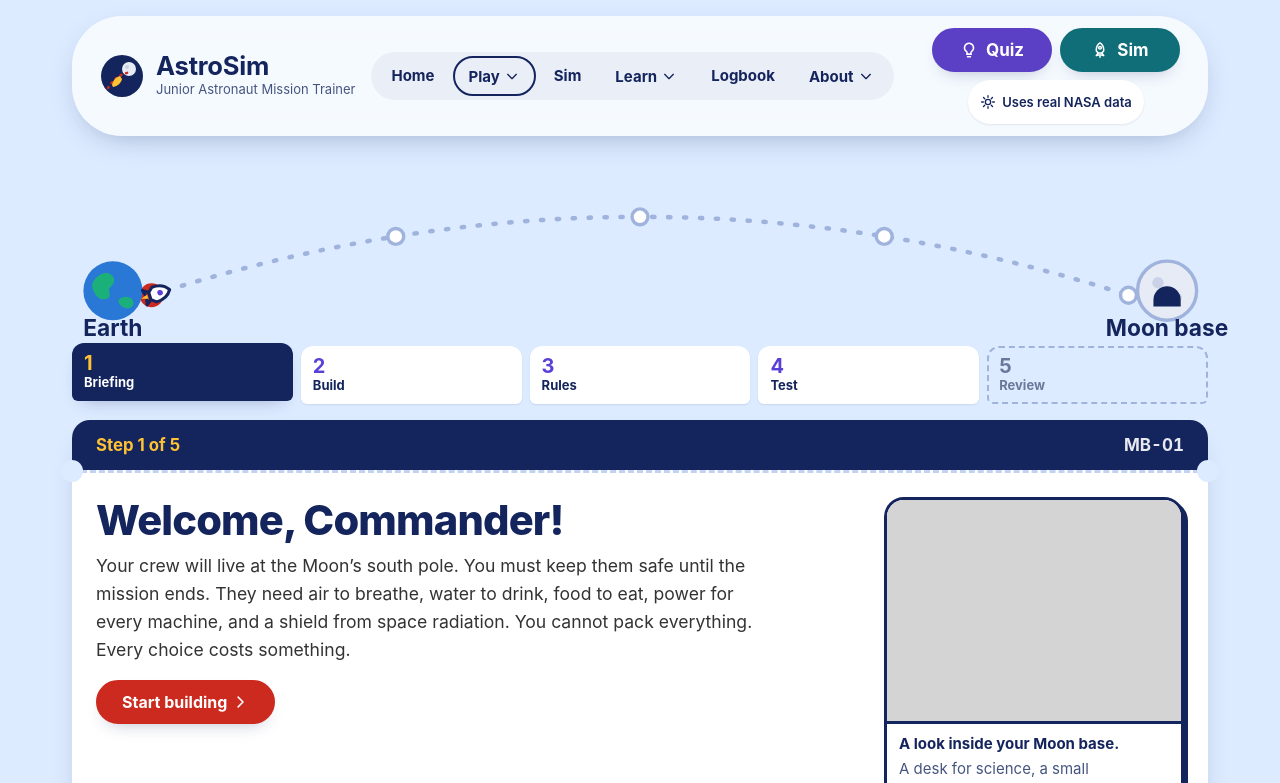
Test: step-by-step flow (pagination) › marks the current stub and stamps finished steps Done
Step 1. Click the button "Start building" → click(186, 702), box x1=96 y1=680 x2=275 y2=724
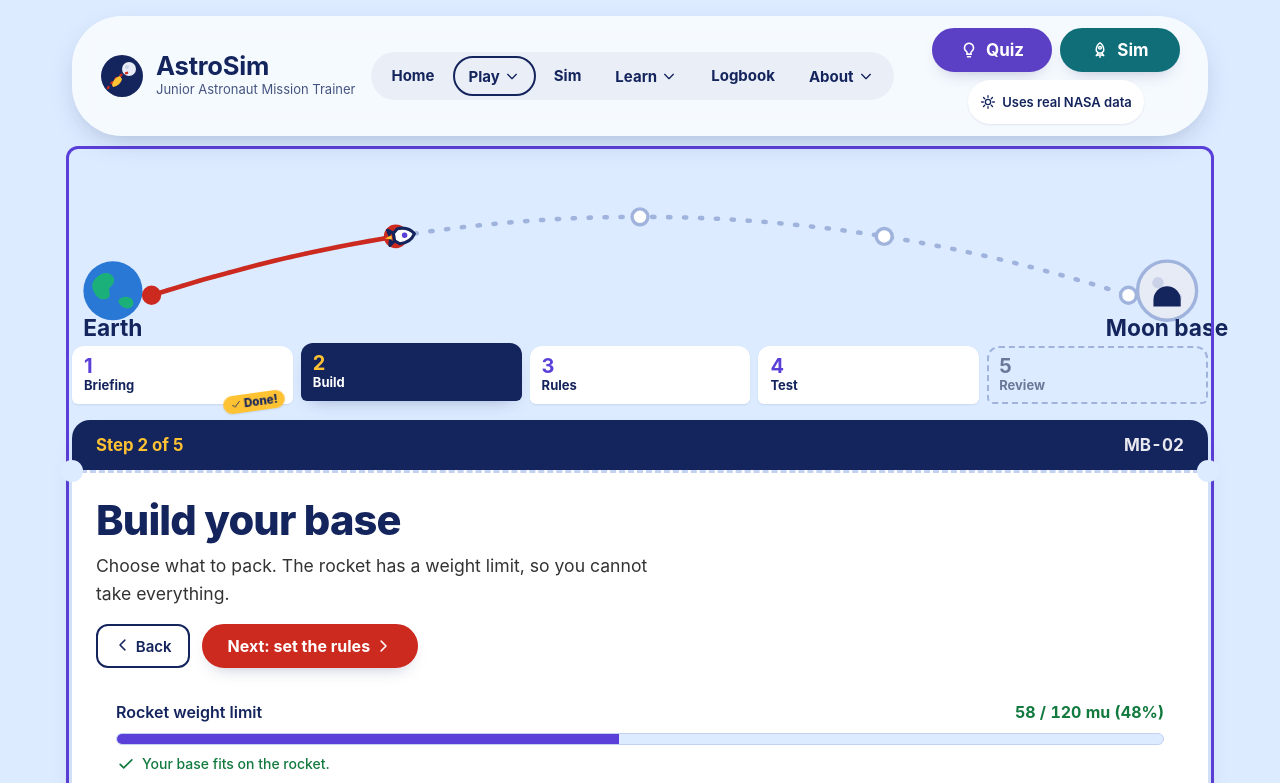
Expected: the button "1 Briefing Done!" is shown, x1=72 y1=346 x2=293 y2=404
